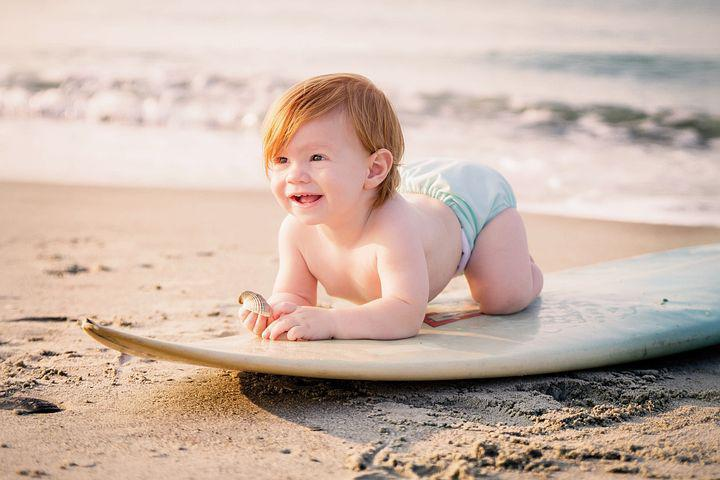child: (216, 69, 556, 347)
